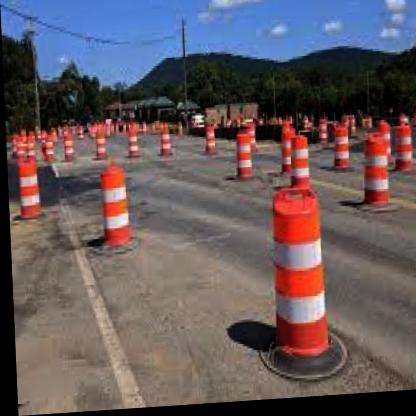obstacle: (263, 188, 330, 367), (97, 165, 129, 254), (11, 157, 45, 221)
